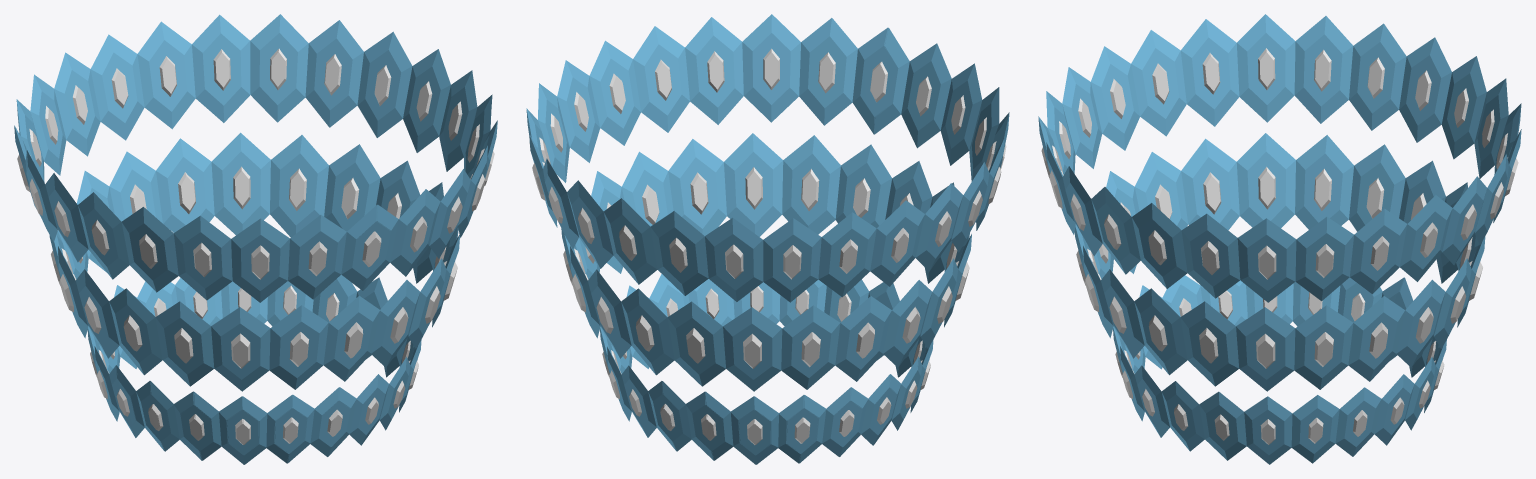
Rendered from Polyp.glb.
3 renders of one model, left to right at view 1: azimuth 30°, elevation 25°; view 2: azimuth 150°, elevation 25°; view 3: azimuth 270°, elevation 25°, orthographic.
Visible parts, largest first — view 1: HexRing2, HexRing1, HexRing0; view 2: HexRing2, HexRing1, HexRing0; view 3: HexRing2, HexRing1, HexRing0.
Boxes of the visible parts, left/top/right/bottom form: HexRing2: left=14, top=14, right=497, bottom=302; HexRing1: left=49, top=132, right=459, bottom=391; HexRing0: left=87, top=274, right=421, bottom=464; HexRing2: left=526, top=14, right=1009, bottom=302; HexRing1: left=561, top=133, right=971, bottom=391; HexRing0: left=600, top=274, right=933, bottom=464; HexRing2: left=1038, top=14, right=1521, bottom=302; HexRing1: left=1074, top=133, right=1485, bottom=391; HexRing0: left=1113, top=275, right=1446, bottom=464.
Size of the model in its own units: 5.9 by 3.88 by 5.9.
